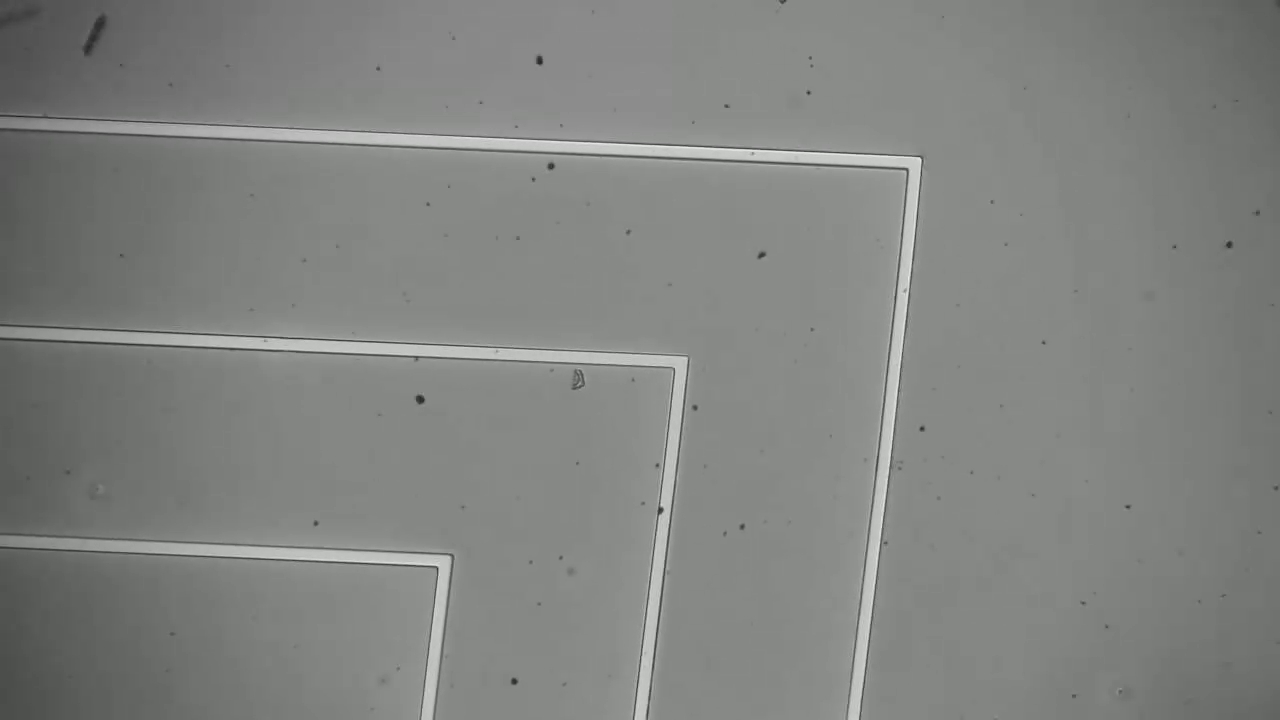stains_enbedded: (649, 495, 680, 521)
